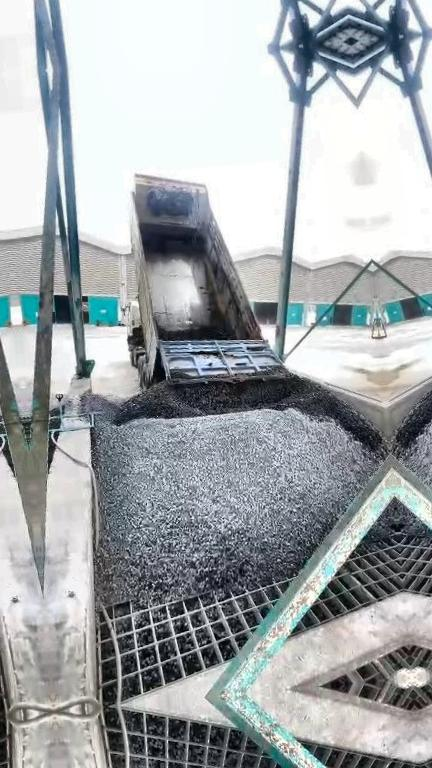gravel: (76, 356, 390, 605), (158, 262, 237, 340), (365, 499, 397, 544)
sand: (343, 366, 385, 402)
